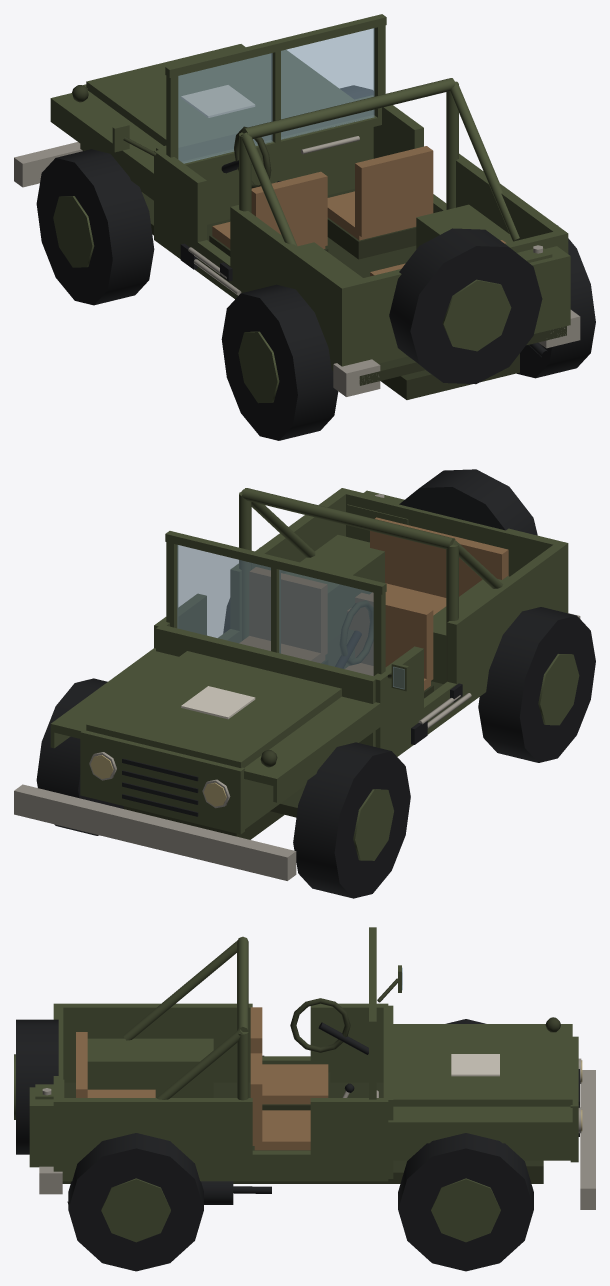
Rendered from m151-mutt.glb.
3 views of the same model, one above another, from view 1: azimuth 30°, elevation 25°; view 2: azimuth 150°, elevation 25°; view 3: azimuth 270°, elevation 25° (orthographic). The views are drawn at different scales.
Visible parts, largest first — view 1: Mesh_SpareTyre, Mesh_TyreFL, Mesh_TyreRL, Mesh_HoodTop, Mesh_WSGlassL, Mesh_Firewall, Mesh_WSGlassR, Mesh_RearSideL, Mesh_Tailgate, Mesh_SeatBackP, Mesh_FrontSideL, Mesh_SeatBackD (+31 smaller); view 2: Mesh_HoodTop, Mesh_TyreFL, Mesh_TyreRL, Mesh_BumperFront, Mesh_GrillePanel, Mesh_WSGlassL, Mesh_WSGlassR, Mesh_RearSideL, Mesh_Firewall, Mesh_RearSeatBack, Mesh_SpareTyre, Mesh_SeatBackP (+31 smaller); view 3: Mesh_HoodTop, Mesh_TyreFR, Mesh_TyreRR, Mesh_RearSideR, Mesh_RearSideL, Mesh_FrontSideR, Mesh_WheelWellL, Mesh_FrontSideL, Mesh_FenderR, Mesh_SpareTyre, Mesh_HubFR, Mesh_HubRR (+28 smaller).
Part boxes in pixels (x1,y1,x2,y2): Mesh_SpareTyre: [389, 228, 542, 384]; Mesh_TyreFL: [36, 149, 154, 305]; Mesh_TyreRL: [221, 284, 338, 440]; Mesh_HoodTop: [86, 44, 325, 145]; Mesh_WSGlassL: [178, 53, 272, 163]; Mesh_Firewall: [156, 95, 373, 224]; Mesh_WSGlassR: [281, 28, 374, 139]; Mesh_RearSideL: [230, 205, 348, 370]; Mesh_Tailgate: [336, 230, 568, 366]; Mesh_SeatBackP: [355, 146, 433, 236]; Mesh_FrontSideL: [154, 150, 206, 271]; Mesh_SeatBackD: [251, 171, 327, 246]; Mesh_HoodTop: [86, 651, 341, 767]; Mesh_TyreFL: [293, 742, 410, 898]; Mesh_TyreRL: [478, 607, 595, 762]; Mesh_BumperFront: [14, 784, 296, 880]; Mesh_GrillePanel: [80, 729, 244, 834]; Mesh_WSGlassL: [279, 570, 373, 675]; Mesh_WSGlassR: [177, 545, 270, 650]; Mesh_RearSideL: [447, 543, 564, 713]; Mesh_Firewall: [156, 624, 377, 746]; Mesh_RearSeatBack: [370, 517, 508, 597]; Mesh_SpareTyre: [399, 469, 537, 535]; Mesh_SeatBackP: [249, 567, 327, 657]; Mesh_HoodTop: [393, 1032, 572, 1106]; Mesh_TyreFR: [398, 1133, 533, 1271]; Mesh_TyreRR: [68, 1133, 203, 1271]; Mesh_RearSideR: [59, 1098, 252, 1181]; Mesh_RearSideL: [63, 1003, 252, 1082]; Mesh_FrontSideR: [310, 1098, 388, 1181]; Mesh_WheelWellL: [87, 1038, 213, 1097]; Mesh_FrontSideL: [310, 1003, 388, 1082]; Mesh_FenderR: [388, 1107, 572, 1129]; Mesh_SpareTyre: [16, 1019, 58, 1154]; Mesh_HubFR: [431, 1178, 500, 1242]; Mesh_HubRR: [101, 1178, 170, 1242].
Bounding box in the file's own units: 1.6 × 1.32 × 3.
2 materials, 2 textured.
